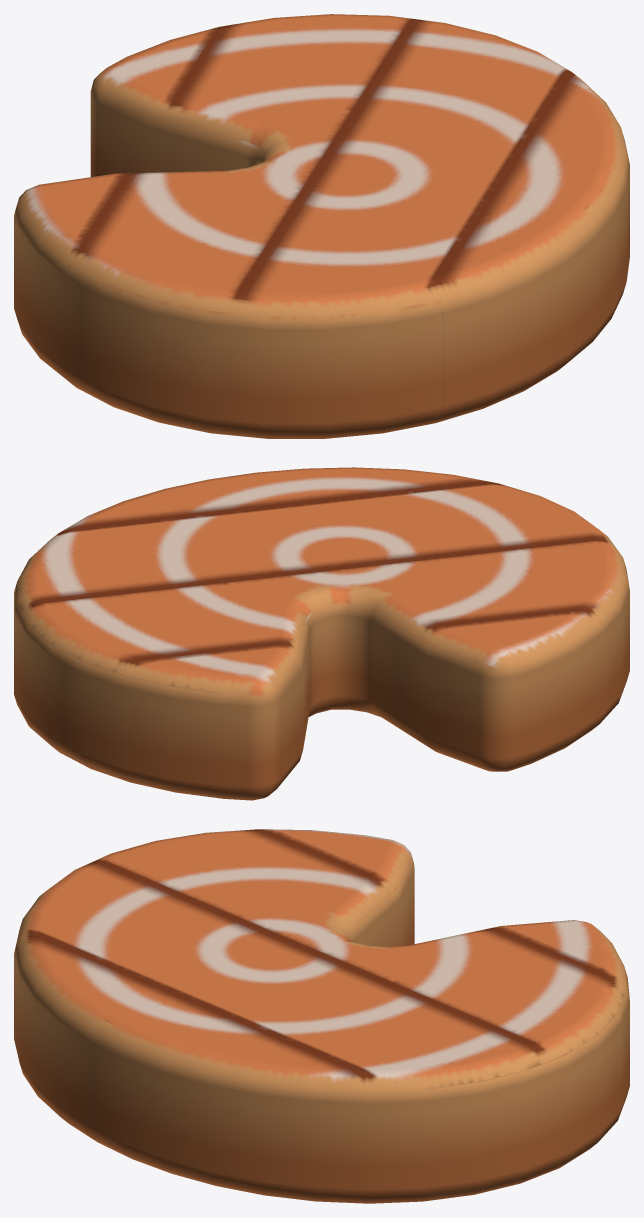
Rendered from item_fish_cooked.glb.
3 renders of one model, top to bottom at view 1: azimuth 30°, elevation 25°; view 2: azimuth 150°, elevation 25°; view 3: azimuth 270°, elevation 25°, orthographic. The views are drawn at different scales.
Parts seen in each view (by area): view 1: steak; view 2: steak; view 3: steak.
Boxes of the visible parts, <box> form: steak: <box>14,14,629,438</box>; steak: <box>14,467,629,800</box>; steak: <box>14,829,629,1203</box>.
Bounding box in the file's own units: 0.7233 × 0.17 × 0.7233.
1 material, 1 textured.
